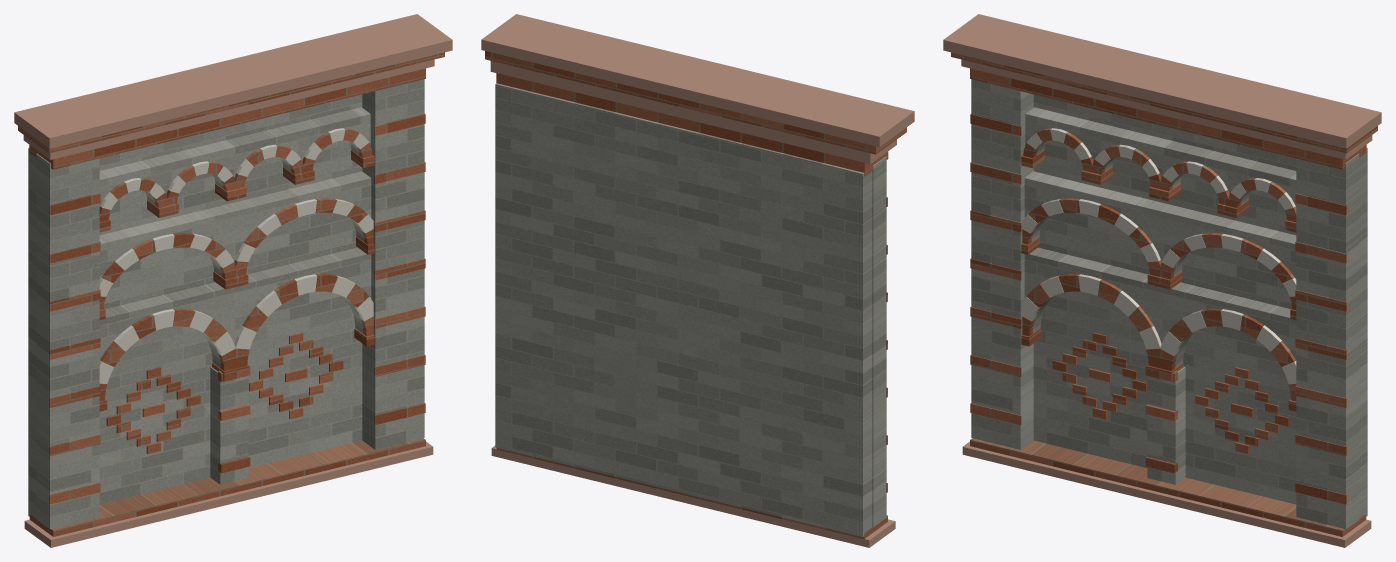
Rendered from zhujiajiao-belfry-brick-lozenges-far.glb.
3 views of the same model, side by side, from view 1: azimuth 30°, elevation 25°; view 2: azimuth 150°, elevation 25°; view 3: azimuth 330°, elevation 25° (orthographic).
Parts seen in each view (by area): view 1: 朱家角天主堂钟楼中段双菱形砖花与叠层盲拱; view 2: 朱家角天主堂钟楼中段双菱形砖花与叠层盲拱; view 3: 朱家角天主堂钟楼中段双菱形砖花与叠层盲拱.
Boxes of the visible parts, box(x1,y1,x2,y2) form: 朱家角天主堂钟楼中段双菱形砖花与叠层盲拱: box(14, 14, 452, 547); 朱家角天主堂钟楼中段双菱形砖花与叠层盲拱: box(481, 14, 914, 547); 朱家角天主堂钟楼中段双菱形砖花与叠层盲拱: box(943, 14, 1381, 547).
Size of the model in its own units: 3.51 by 3.48 by 0.554.
4 materials, 2 textured.
